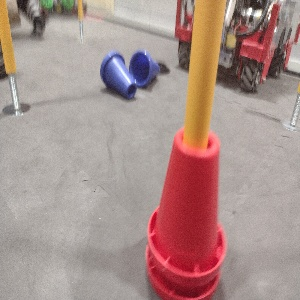Blue_1: (92, 45, 136, 99), (129, 51, 162, 86)
Red_2: (143, 122, 229, 299)
